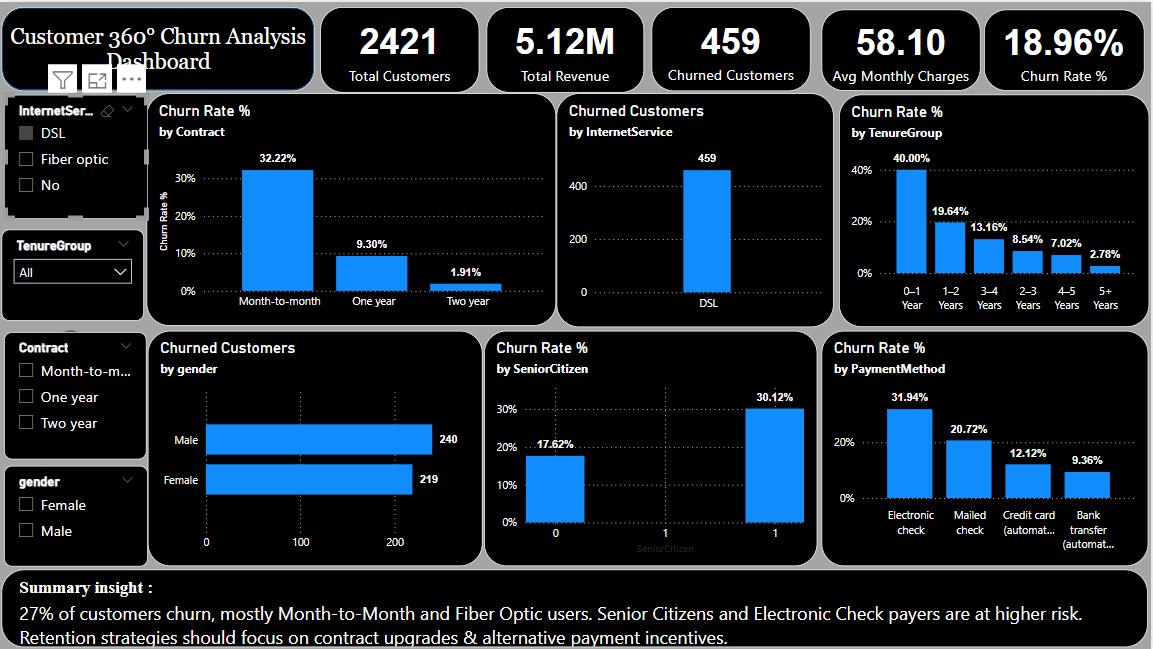

What the dashboard file says about the page in this screenshot:
{"tool":"powerbi","page":{"name":"Page 1","canvas":[1280,720],"ordinal":0},"visuals":[{"type":"card","fields":{"Values":["Measured Table.Churned Customers"]},"box":[725,5,176.7,93.3],"z":0},{"type":"actionButton","box":[60.3,359.5,100.1,39.8],"z":1000},{"type":"card","fields":{"Values":["Measured Table.Total Customers"]},"box":[356.7,5,176.7,95],"z":2000},{"type":"card","fields":{"Values":["Measured Table.Churn Rate %"]},"box":[1095,8.3,178.3,90],"z":3000},{"type":"card","fields":{"Values":["Measured Table.Avg Monthly Charges"]},"box":[913.3,8.3,176.7,90],"z":4000},{"type":"card","fields":{"Values":["Measured Table.Total Revenue"]},"box":[541.7,5,175,95],"z":5000},{"type":"clusteredColumnChart","fields":{"Y":["Measured Table.Churn Rate %"],"Category":["DimContract.Contract"]},"box":[163.3,101.7,455,258.3],"z":6000},{"type":"columnChart","fields":{"Y":["Measured Table.Churn Rate %"],"Category":["DimTenure table.TenureGroup"]},"box":[933.3,103.3,345,258.3],"z":7000},{"type":"clusteredColumnChart","fields":{"Y":["Measured Table.Churned Customers"],"Category":["DimServices.InternetService"]},"box":[620,101.7,308.3,260],"z":8000},{"type":"barChart","fields":{"Category":["DimCustomer.gender"],"Y":["Measured Table.Churned Customers"]},"box":[165,365,371.7,261.7],"z":9000},{"type":"clusteredColumnChart","fields":{"Y":["Measured Table.Churn Rate %"],"Category":["DimCustomer.SeniorCitizen"]},"box":[538.3,365,370,261.7],"z":10000},{"type":"columnChart","fields":{"Y":["Measured Table.Churn Rate %"],"Category":["DimContract.PaymentMethod"]},"box":[913.3,365,363.3,261.7],"z":11000},{"type":"slicer","fields":{"Values":["DimContract.Contract"]},"box":[5,366.7,158.3,141.7],"z":12000},{"type":"slicer","fields":{"Values":["DimServices.InternetService"]},"box":[5,103.3,160,138.3],"z":13000},{"type":"slicer","fields":{"Values":["DimTenure table.TenureGroup"]},"box":[3.3,253.3,158.3,101.7],"z":14000},{"type":"slicer","fields":{"Values":["DimCustomer.gender"]},"box":[5,515,160,111.7],"z":15000},{"type":"shape","box":[3.3,5,348.3,93.3],"z":16000},{"type":"shape","title":"Summary insight : ","box":[3.3,630,1273.3,86.7],"z":17000}]}

Visuals, with their boxes in screenshot pixels (x1, y1, x2, y2), scaled from the page's 1280x720 canvas onto the 1153x649 screenshot:
card - Measured Table.Churned Customers: locate(653, 5, 812, 89)
actionButton: locate(54, 324, 144, 360)
card - Measured Table.Total Customers: locate(321, 5, 480, 90)
card - Measured Table.Churn Rate %: locate(986, 7, 1147, 89)
card - Measured Table.Avg Monthly Charges: locate(823, 7, 982, 89)
card - Measured Table.Total Revenue: locate(488, 5, 646, 90)
clusteredColumnChart - Measured Table.Churn Rate % x DimContract.Contract: locate(147, 92, 557, 324)
columnChart - Measured Table.Churn Rate % x DimTenure table.TenureGroup: locate(841, 93, 1151, 326)
clusteredColumnChart - Measured Table.Churned Customers x DimServices.InternetService: locate(558, 92, 836, 326)
barChart - DimCustomer.gender x Measured Table.Churned Customers: locate(149, 329, 483, 565)
clusteredColumnChart - Measured Table.Churn Rate % x DimCustomer.SeniorCitizen: locate(485, 329, 818, 565)
columnChart - Measured Table.Churn Rate % x DimContract.PaymentMethod: locate(823, 329, 1150, 565)
slicer - DimContract.Contract: locate(5, 331, 147, 458)
slicer - DimServices.InternetService: locate(5, 93, 149, 218)
slicer - DimTenure table.TenureGroup: locate(3, 228, 146, 320)
slicer - DimCustomer.gender: locate(5, 464, 149, 565)
shape: locate(3, 5, 317, 89)
"Summary insight : " shape: locate(3, 568, 1150, 646)
